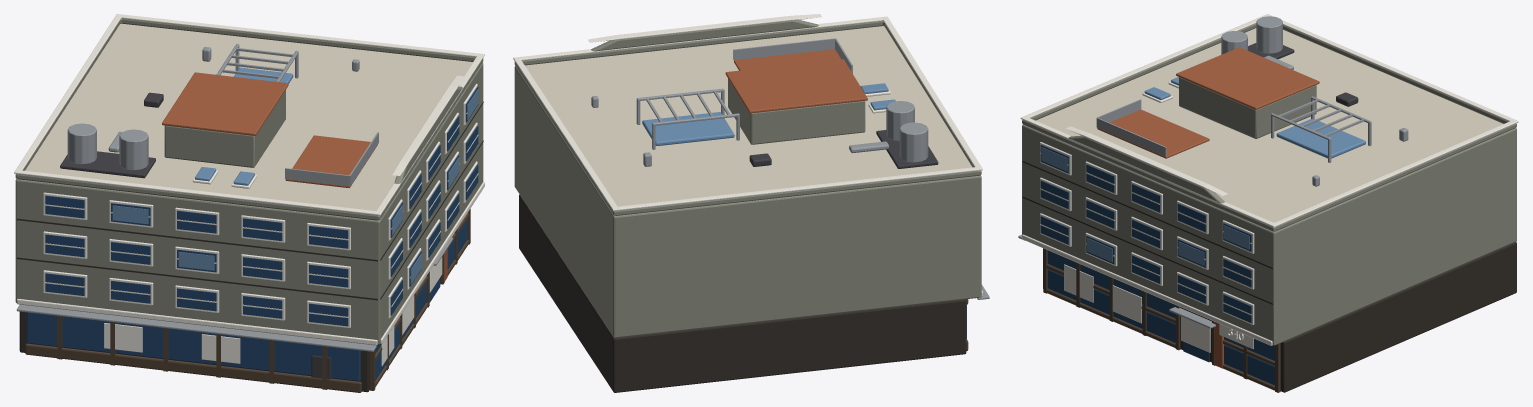
Rendered from 340-brannan.glb.
3 renders of one model, left to right at view 1: azimuth 30°, elevation 25°; view 2: azimuth 150°, elevation 25°; view 3: azimuth 270°, elevation 25°, orthographic. The views are drawn at different scales.
Visible parts, largest first — view 1: body, grp_Toy_glass, grp_Toy_trim, grp_Toy_sage, grp_Toy_steel, grp_Toy_rust, grp_Toy_bronze, grp_Toy_ink, grp_Toy_white_Glow, grp_Toy_glass_Glow, grp_Toy_roofd, grp_Toy_glassl; view 2: body, grp_Toy_ink, grp_Toy_sage, grp_Toy_trim, grp_Toy_rust, grp_Toy_steel, grp_Toy_glassl, grp_Toy_roofd; view 3: body, grp_Toy_ink, grp_Toy_trim, grp_Toy_glass, grp_Toy_sage, grp_Toy_rust, grp_Toy_steel, grp_Toy_bronze, grp_Toy_white_Glow, grp_Toy_glassl, grp_Toy_glass_Glow, grp_Toy_roofd.
Boxes of the visible parts, box(x1,y1,x2,y2) form: body: box(15, 23, 483, 344); grp_Toy_glass: box(26, 87, 478, 381); grp_Toy_trim: box(14, 14, 484, 345); grp_Toy_sage: box(15, 18, 483, 220); grp_Toy_steel: box(16, 44, 453, 351); grp_Toy_rust: box(162, 72, 447, 281); grp_Toy_bronze: box(25, 209, 470, 392); grp_Toy_ink: box(17, 101, 483, 392); grp_Toy_white_Glow: box(104, 257, 442, 365); grp_Toy_glass_Glow: box(112, 89, 478, 284); grp_Toy_roofd: box(60, 92, 331, 379); grp_Toy_glassl: box(195, 67, 293, 185); body: box(514, 26, 981, 337); grp_Toy_ink: box(519, 194, 966, 392); grp_Toy_sage: box(514, 20, 981, 215); grp_Toy_trim: box(513, 14, 982, 296); grp_Toy_rust: box(725, 49, 867, 113); grp_Toy_steel: box(591, 38, 989, 299); grp_Toy_glassl: box(642, 83, 895, 145); grp_Toy_roofd: box(749, 130, 938, 168); body: box(1022, 28, 1516, 345); grp_Toy_ink: box(1022, 161, 1516, 392); grp_Toy_trim: box(1020, 14, 1518, 345); grp_Toy_glass: box(1040, 145, 1274, 385); grp_Toy_sage: box(1022, 23, 1516, 231); grp_Toy_rust: box(1097, 47, 1319, 368); grp_Toy_steel: box(1018, 16, 1408, 328); grp_Toy_bronze: box(1043, 248, 1280, 392); grp_Toy_white_Glow: box(1064, 264, 1253, 352); grp_Toy_glassl: box(1144, 77, 1365, 158); grp_Toy_glass_Glow: box(1041, 147, 1249, 265); grp_Toy_roofd: box(1248, 43, 1358, 106).
Bounding box in the file's own units: 41.05 × 17.79 × 40.68.
